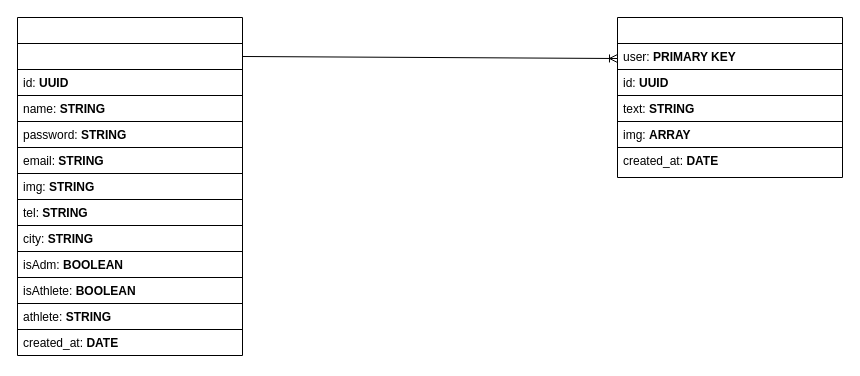
Image size: 860x376. Some labels were removed from this diagram. The box of each missing label's shape, as (x1, y1, x2, y2) in pixels:
Publis: (616, 16, 842, 178)
publis: PRIMARY KEY: (16, 42, 242, 70)
User: (16, 16, 242, 356)
